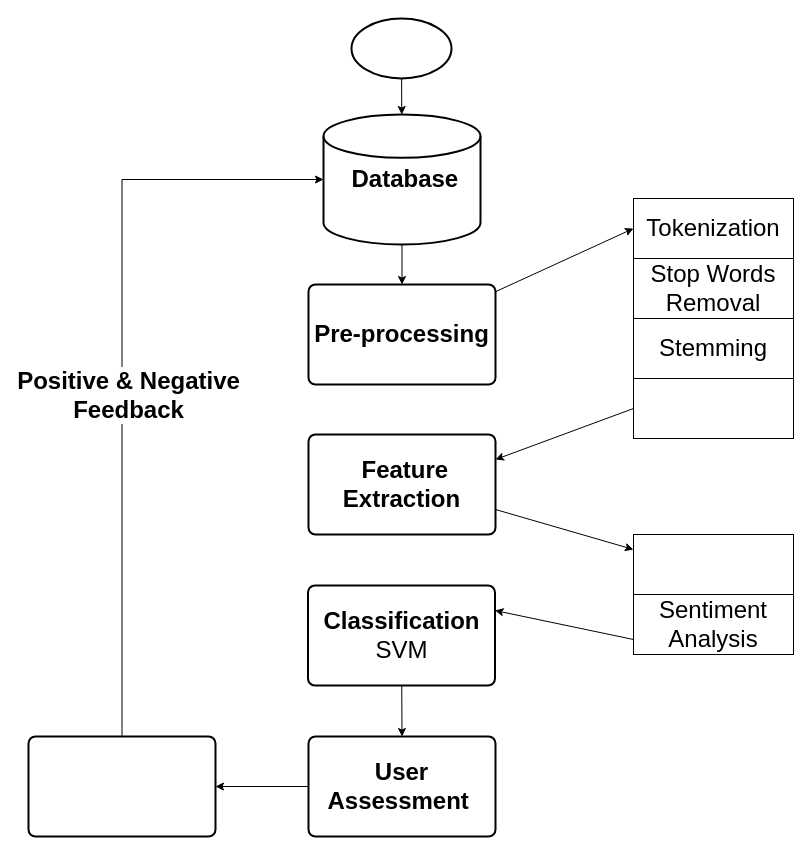
The diagram is 811 pixels wide and 854 high, and some of its shapes have lost their labels. Here are the shapes that lost their labels. From the top down, the box of each, then its label:
(350, 17, 452, 79): Start
(632, 378, 794, 438): Word Correction
(632, 534, 794, 594): TFIDF
(27, 735, 216, 837): User Feedback
